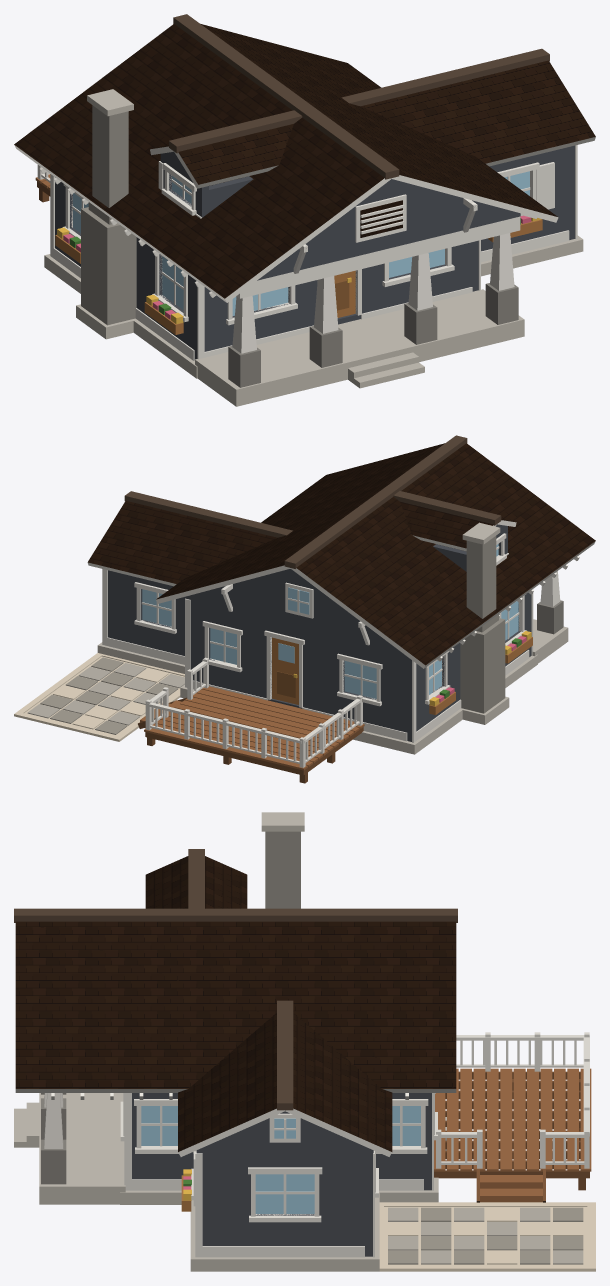
Rendered from base-04-level4.glb.
The picture shows the model from 3 angles, top to bottom: view 1: azimuth 30°, elevation 25°; view 2: azimuth 150°, elevation 25°; view 3: azimuth 270°, elevation 25°; orthographic projection. The views are drawn at different scales.
Parts seen in each view (by area): view 1: base_house_4_finished, piece_addition; view 2: base_house_4_finished, piece_addition, piece_deck, piece_patio; view 3: base_house_4_finished, piece_addition, piece_deck, piece_patio.
Part boxes in pixels (x1=…): base_house_4_finished: x1=14, y1=14, x2=558, y2=406; piece_addition: x1=341, y1=48, x2=595, y2=276; base_house_4_finished: x1=156, y1=435, x2=595, y2=754; piece_addition: x1=87, y1=491, x2=292, y2=673; piece_deck: x1=138, y1=657, x2=364, y2=783; piece_patio: x1=14, y1=653, x2=184, y2=741; base_house_4_finished: x1=14, y1=812, x2=457, y2=1204; piece_addition: x1=178, y1=1000, x2=392, y2=1271; piece_deck: x1=434, y1=1032, x2=591, y2=1202; piece_patio: x1=379, y1=1202, x2=595, y2=1271.
Bounding box in the file's own units: 13.99 × 6.6 × 14.79.
Materials: 21 (1 with a texture image).
